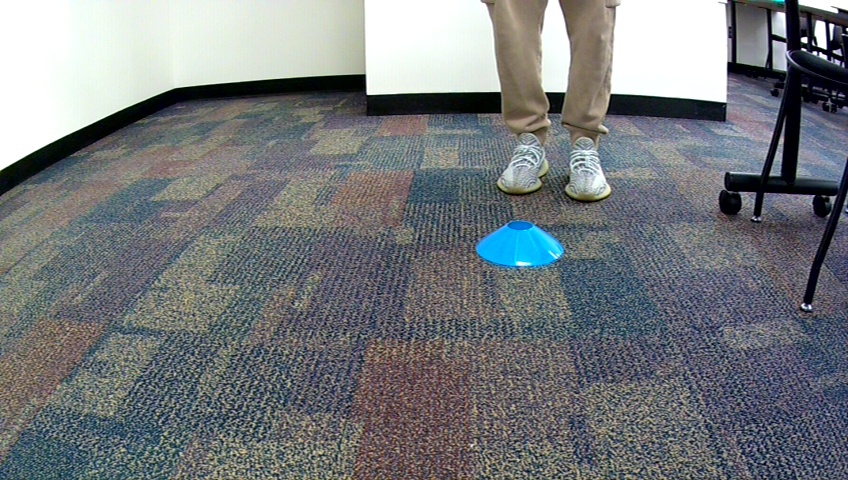cone: (474, 219, 564, 268)
